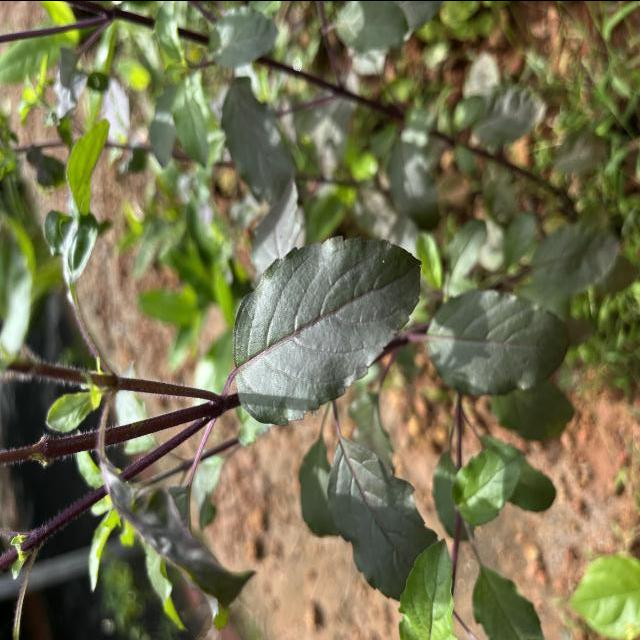Ocimum tenuiflorum: (230, 233, 420, 429)
